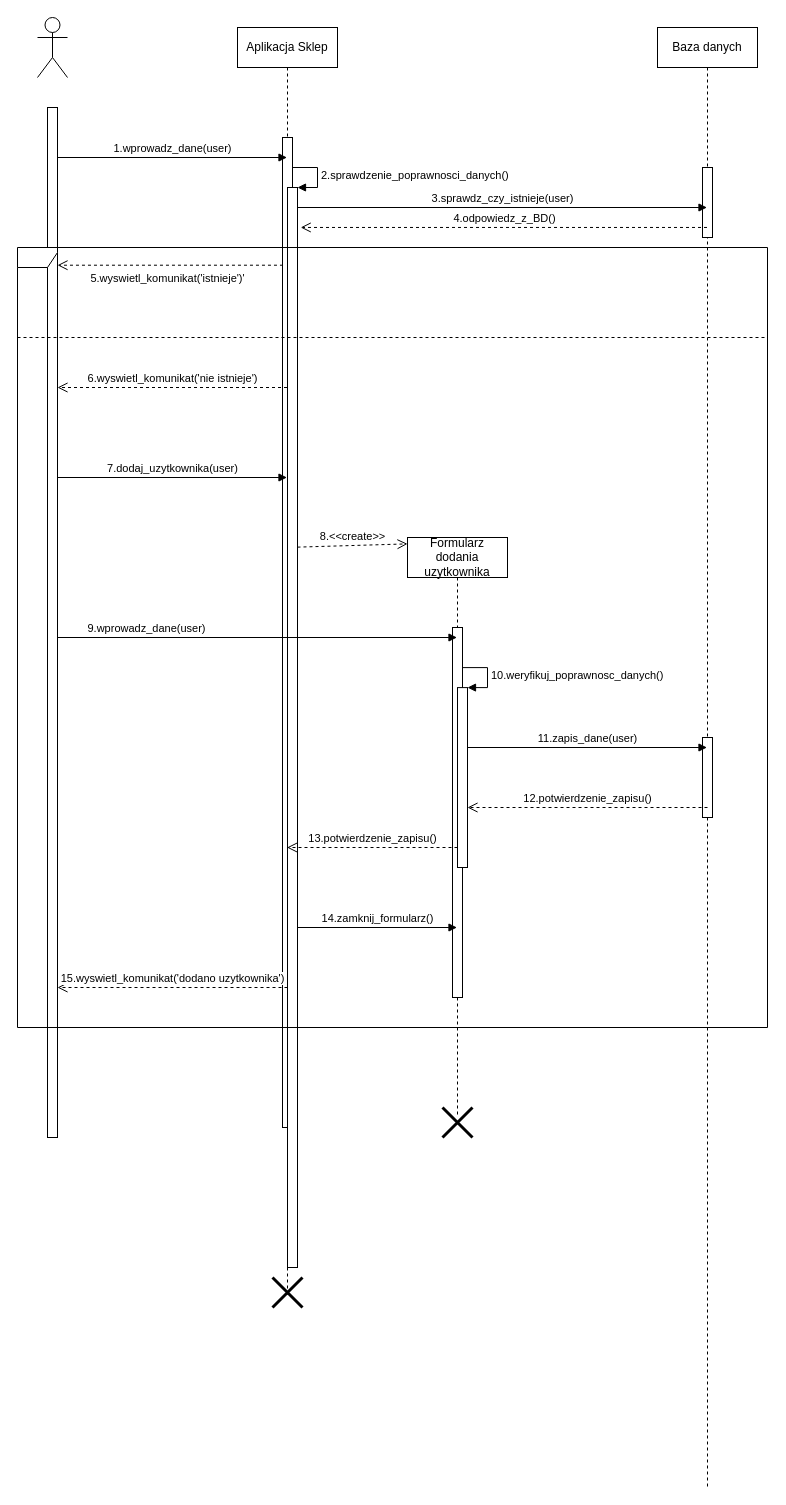
Image size: 786x1505. Some labels were removed from this diagram. The shapes that lost their labels are listed below. From the top down, each one's centre as x and y in pixels, then its label:
At (x=52, y=47): "Wlasciciel".
At (x=392, y=637): "alt".
